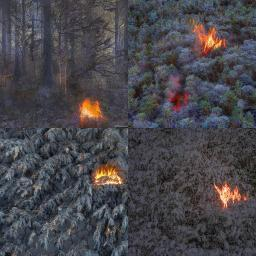Small fire: (192, 24, 231, 57), (212, 182, 252, 211), (74, 95, 106, 130), (90, 163, 121, 191), (169, 87, 191, 114)
